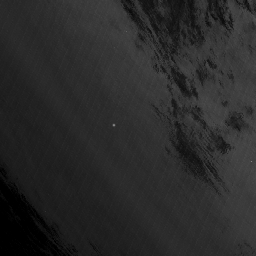Target: (110, 122, 117, 128)
